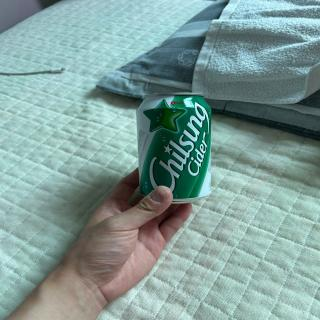cocacola: (135, 90, 214, 204)
